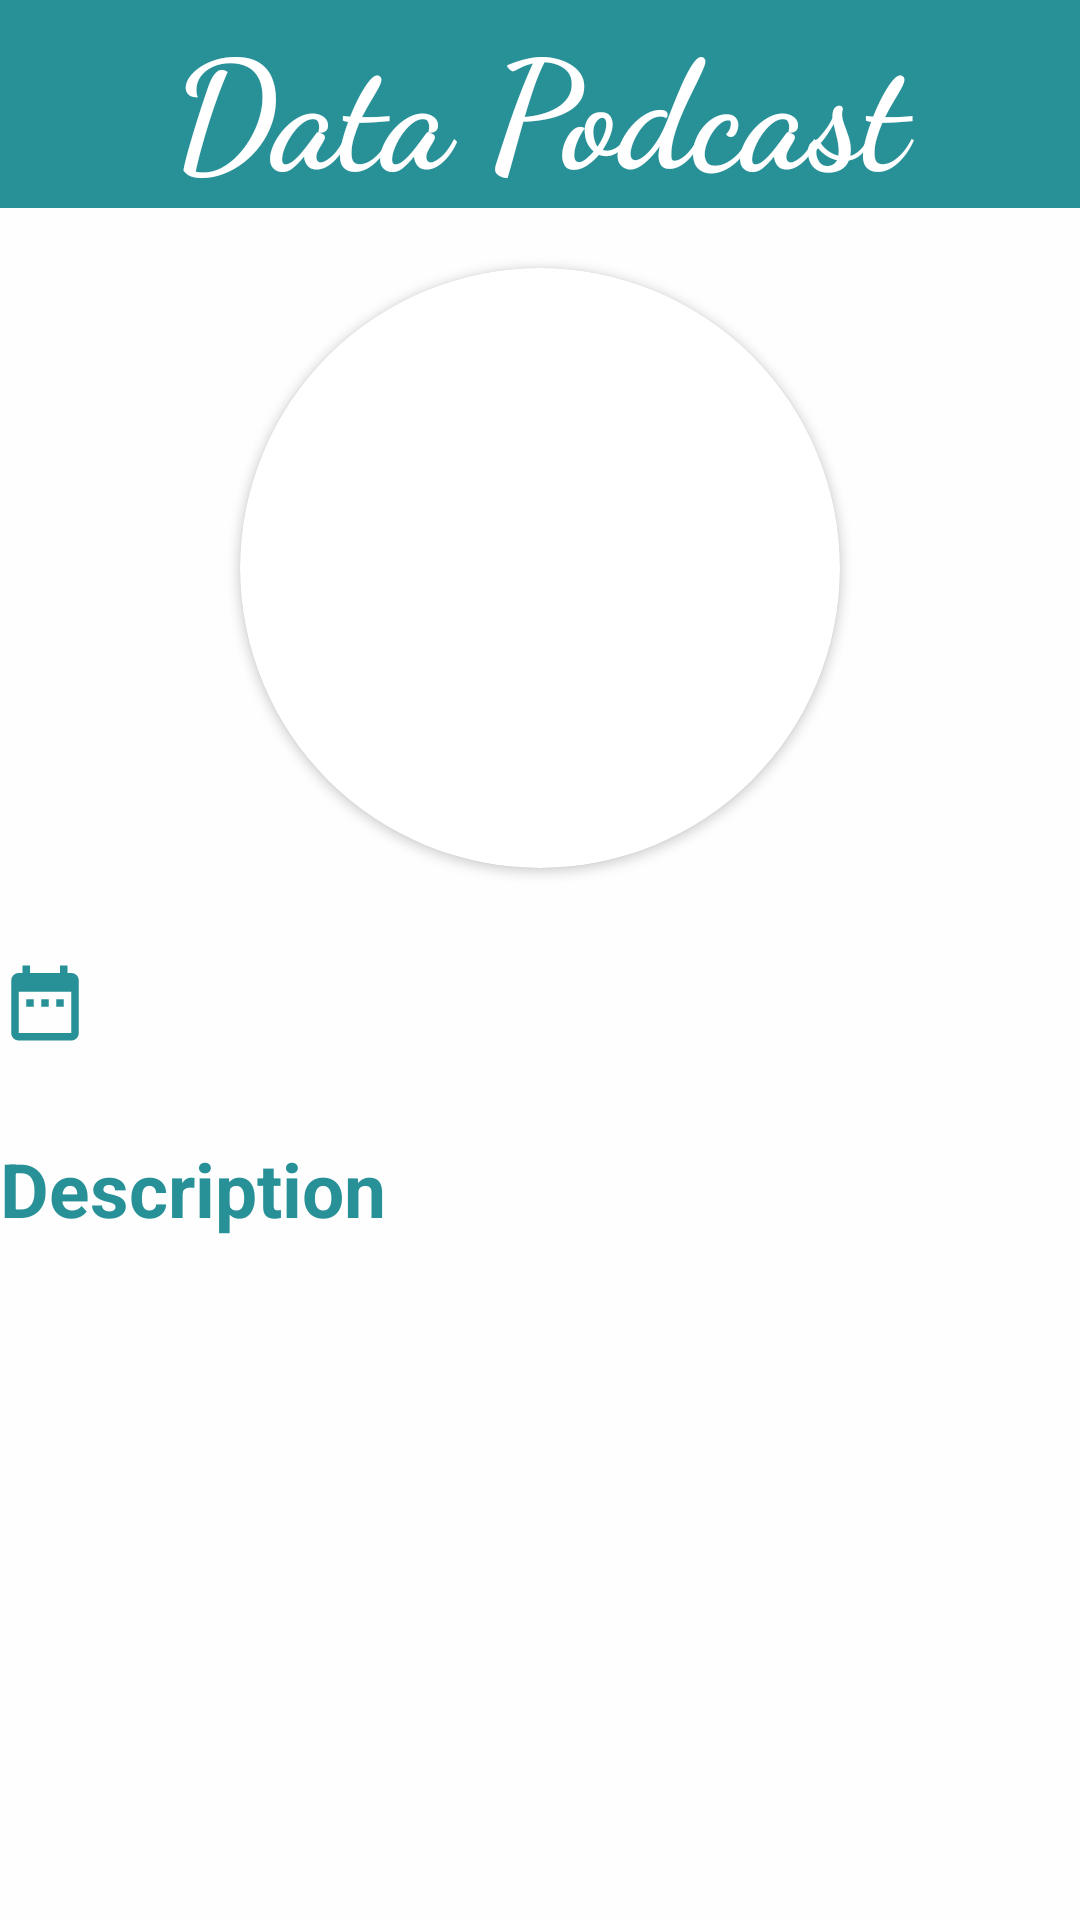

Icon click points for this 1080w x 1920h phone screenshot, format (x,y):
Date: (45,1003)
